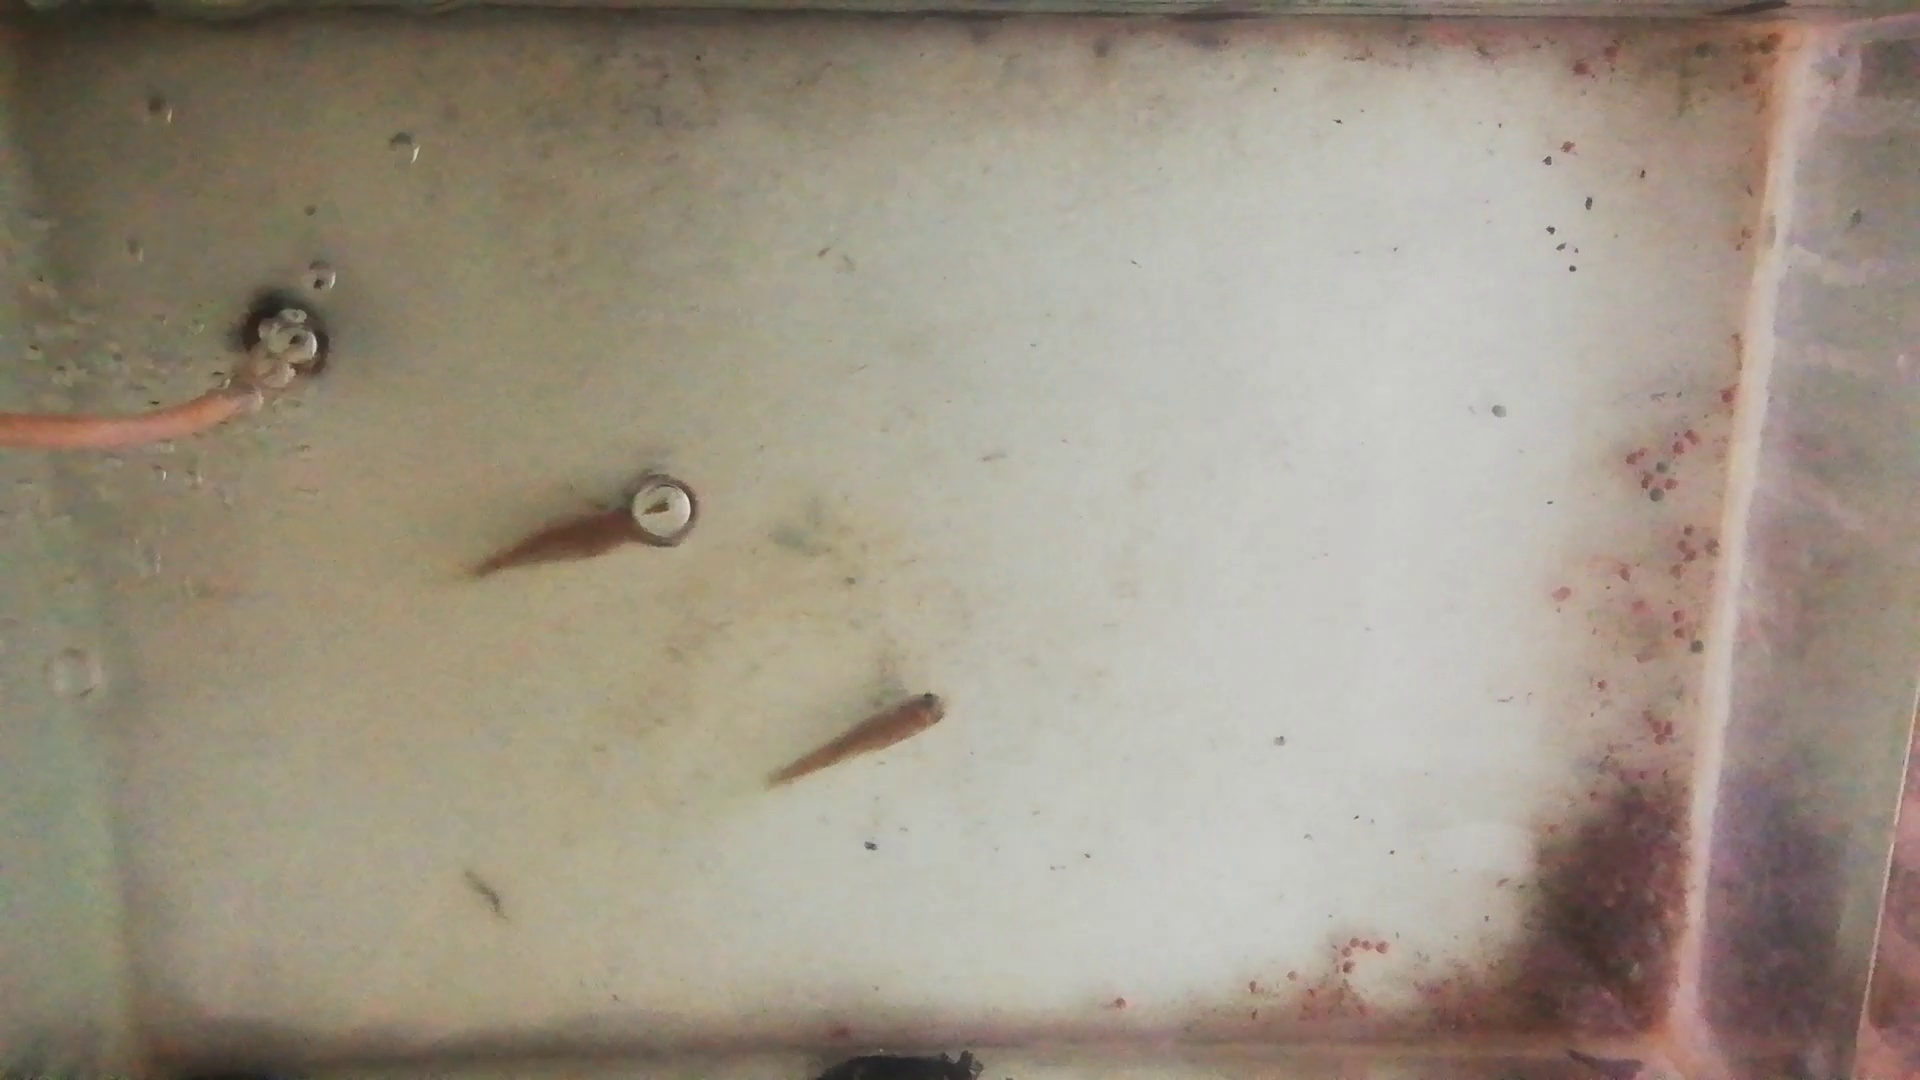fish: (463, 483, 698, 575), (774, 694, 945, 787)
